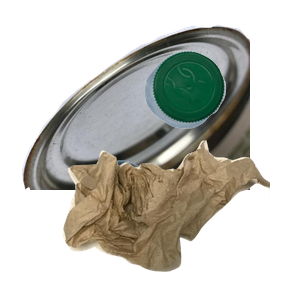glass: (74, 158, 223, 300)
metal: (19, 22, 259, 202)
plastic: (142, 48, 300, 169)
trash: (60, 138, 300, 300)
